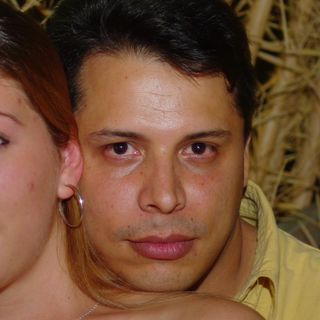eye: (100, 139, 142, 162), (174, 140, 222, 159)
